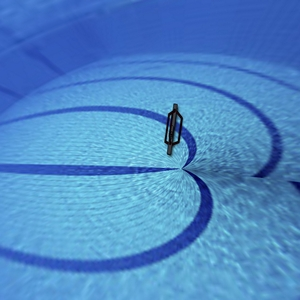submarine: (151, 85, 195, 165)
